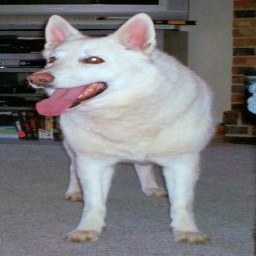dog: (24, 14, 223, 250)
